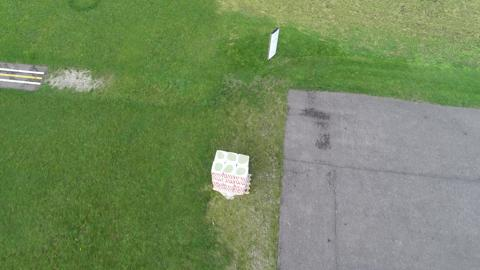RockwoolPallet: (211, 151, 252, 196)
